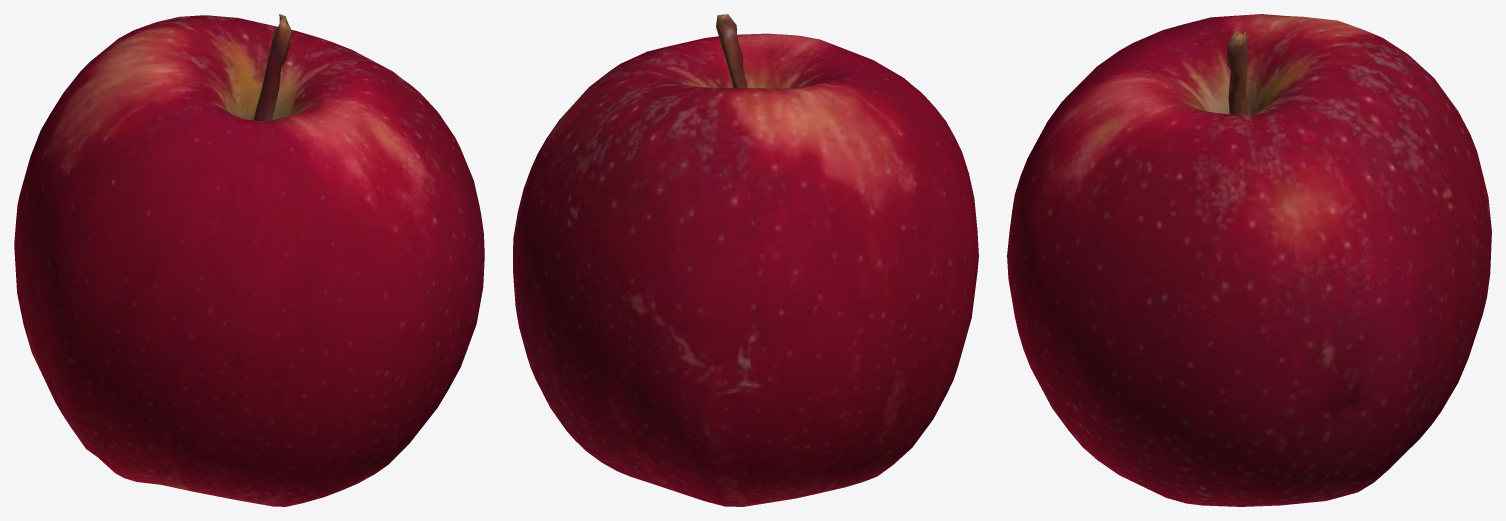
File: apple_d.glb
3 renders of one model, left to right at view 1: azimuth 30°, elevation 25°; view 2: azimuth 150°, elevation 25°; view 3: azimuth 270°, elevation 25°, orthographic. The views are drawn at different scales.
Visible parts, largest first — view 1: tgzoahbpa_LOD0_TIER2_000; view 2: tgzoahbpa_LOD0_TIER2_000; view 3: tgzoahbpa_LOD0_TIER2_000.
Part boxes in pixels (x1,y1,x2,y2): tgzoahbpa_LOD0_TIER2_000: (14,14,484,506); tgzoahbpa_LOD0_TIER2_000: (513,14,978,506); tgzoahbpa_LOD0_TIER2_000: (1007,14,1491,506).
Size of the model in its own units: 0.0756 by 0.08 by 0.0766.
Materials: 1 (1 with a texture image).
